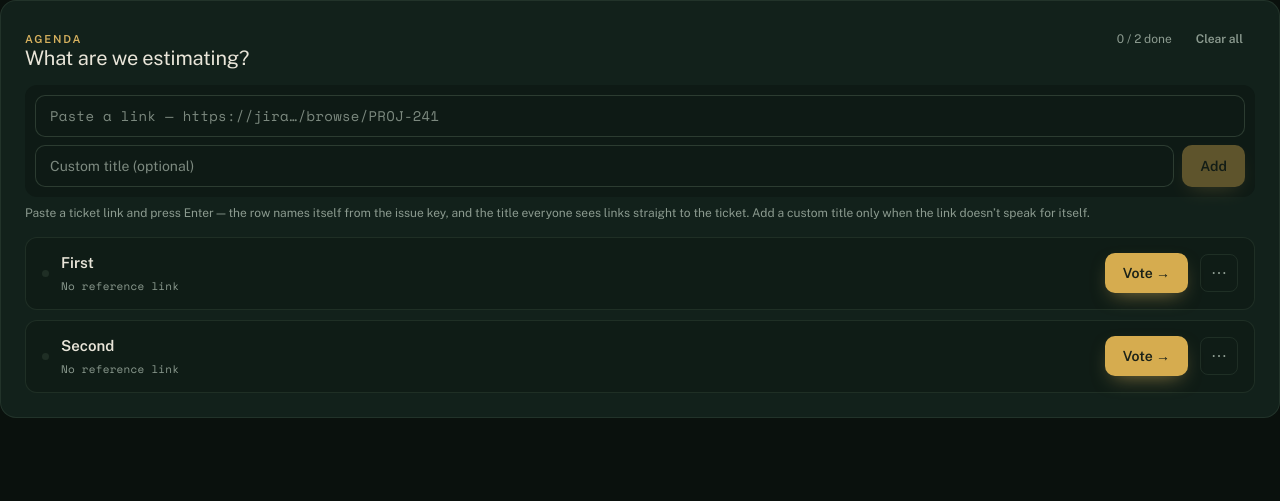
Test: Agenda › clear all › asks before clearing, naming the cost
The image size is (1280, 501).
Click the button "Clear all": (1219, 39) [1184,25,1255,53]
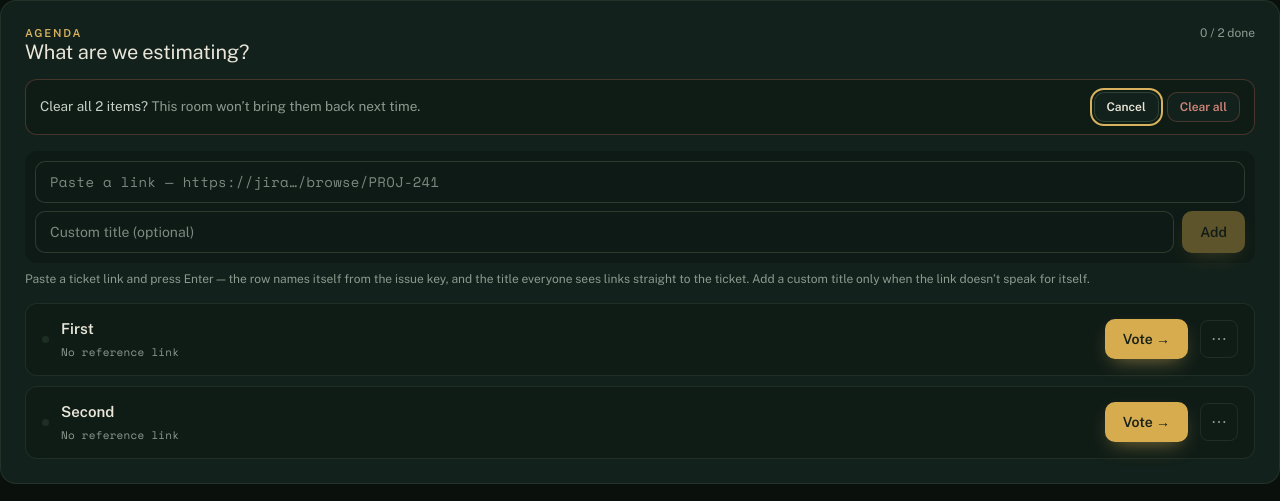
Check: the text "Clear all 2 items?" is shown, box [40,96,420,117]
Check: the text "This room won’t bring them back next time." is shown, box [151,98,420,114]
